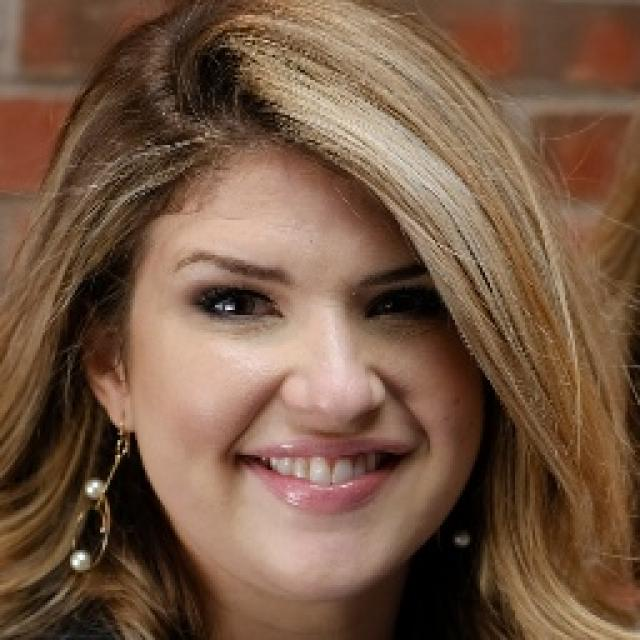earlobe: (98, 386, 137, 434)
eye: (196, 287, 280, 322), (362, 291, 439, 321)
nose: (283, 396, 380, 433)
wholeear: (80, 321, 137, 435)
